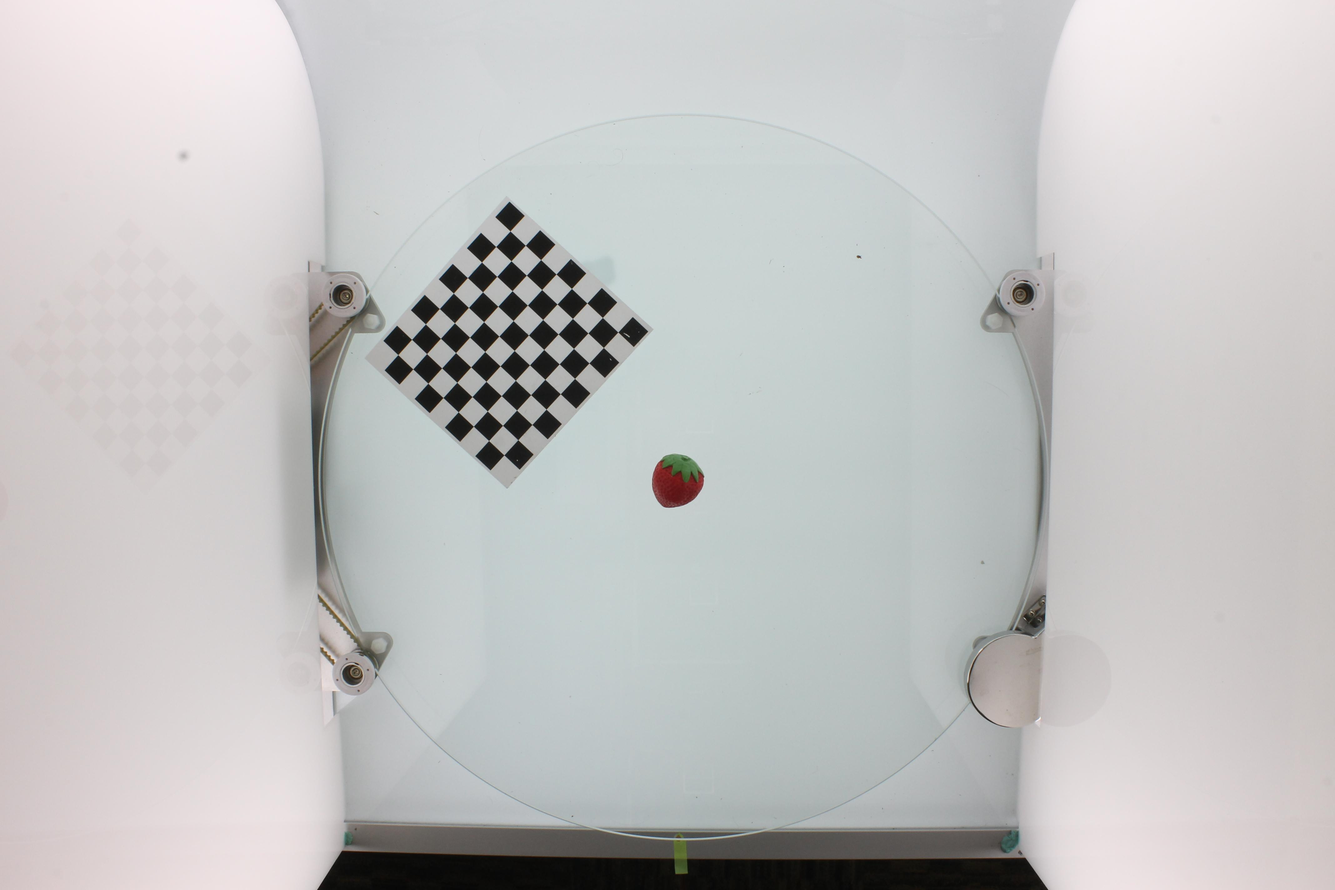strawberry: (652, 454, 704, 508)
